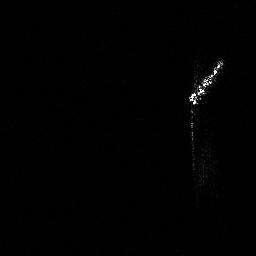ship: (184, 54, 228, 108)
